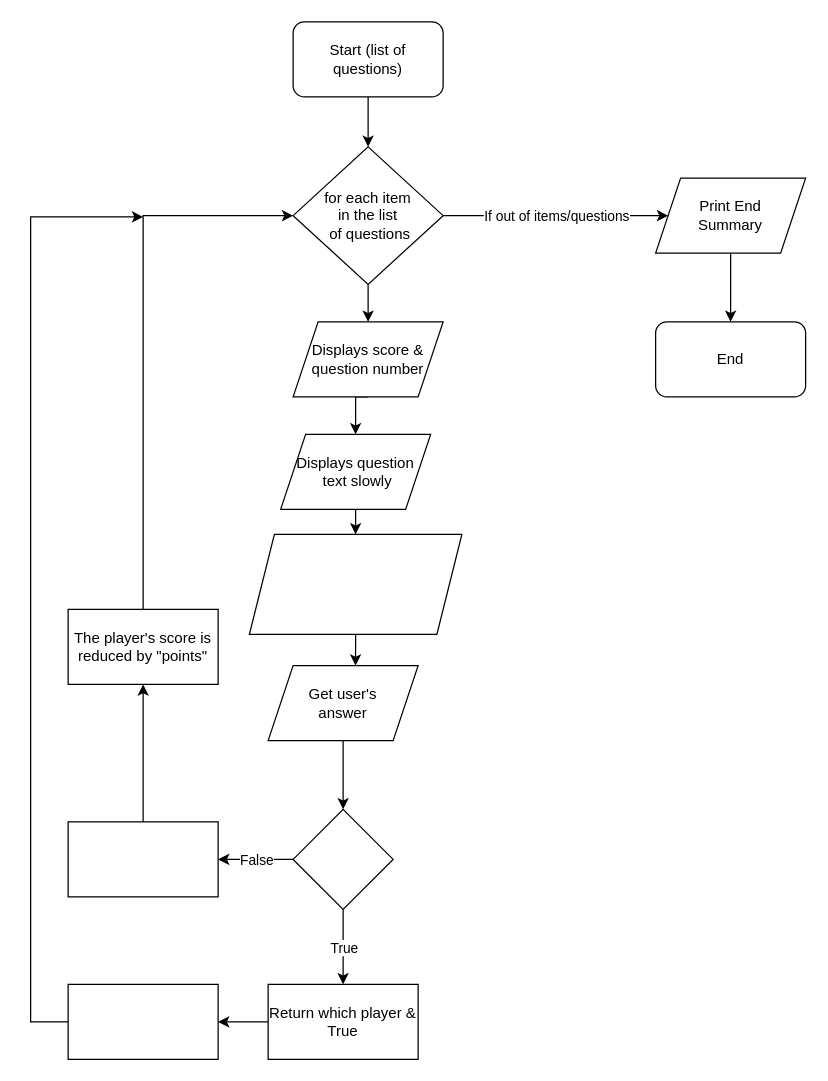
The diagram is 828 pixels wide and 1081 high, and some of its shapes have lost their labels. Here are the shapes that lost their labels. From the top down, the centre of each, then its label:
(355,583): Displays all the responses & the keys to select them
(142,859): Return which Player & False
(342,858): if user's answer is correct
(142,1021): Player's score is increased by "points"
